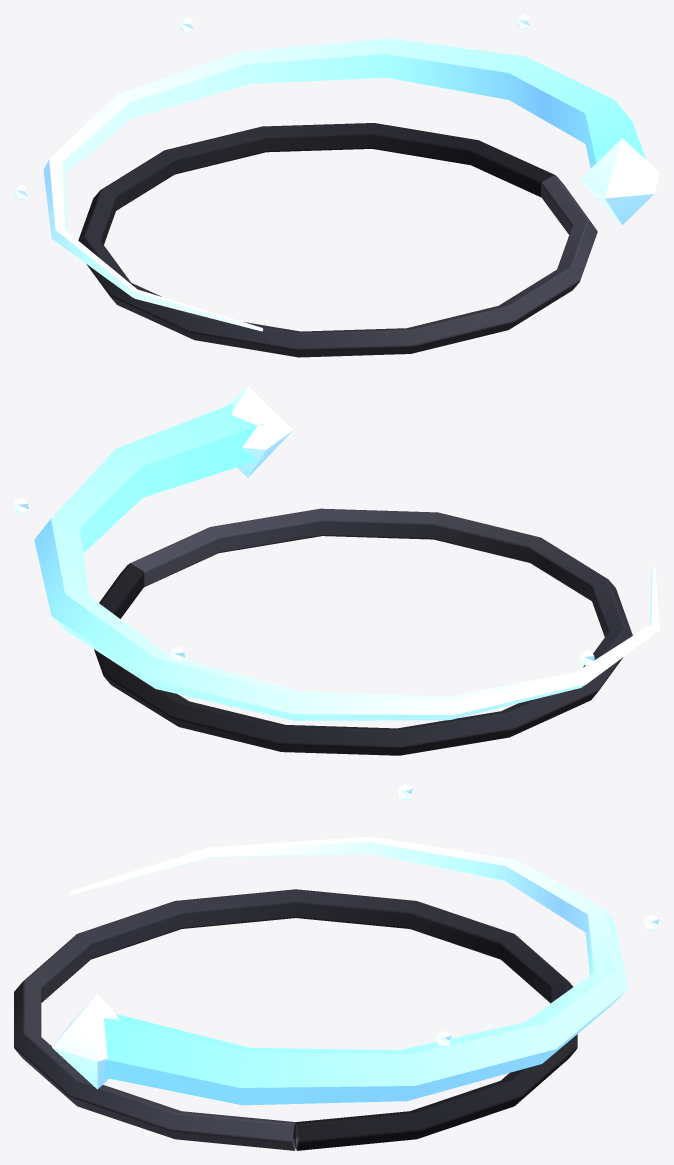
File: lg_comet_chaplet.glb
3 views of the same model, one above another, from view 1: azimuth 30°, elevation 25°; view 2: azimuth 150°, elevation 25°; view 3: azimuth 270°, elevation 25° (orthographic). The views are drawn at different scales.
Parts seen in each view (by area): view 1: lg_comet_chaplet_glow, lg_comet_chaplet; view 2: lg_comet_chaplet_glow, lg_comet_chaplet; view 3: lg_comet_chaplet_glow, lg_comet_chaplet.
Part boxes in pixels (x1,y1,x2,y2): lg_comet_chaplet_glow: (14, 14, 659, 331); lg_comet_chaplet: (78, 123, 597, 357); lg_comet_chaplet_glow: (14, 386, 659, 720); lg_comet_chaplet: (94, 508, 632, 755); lg_comet_chaplet_glow: (52, 784, 659, 1105); lg_comet_chaplet: (14, 889, 577, 1150).
Size of the model in its own units: 2.61 by 0.6046 by 2.43.
